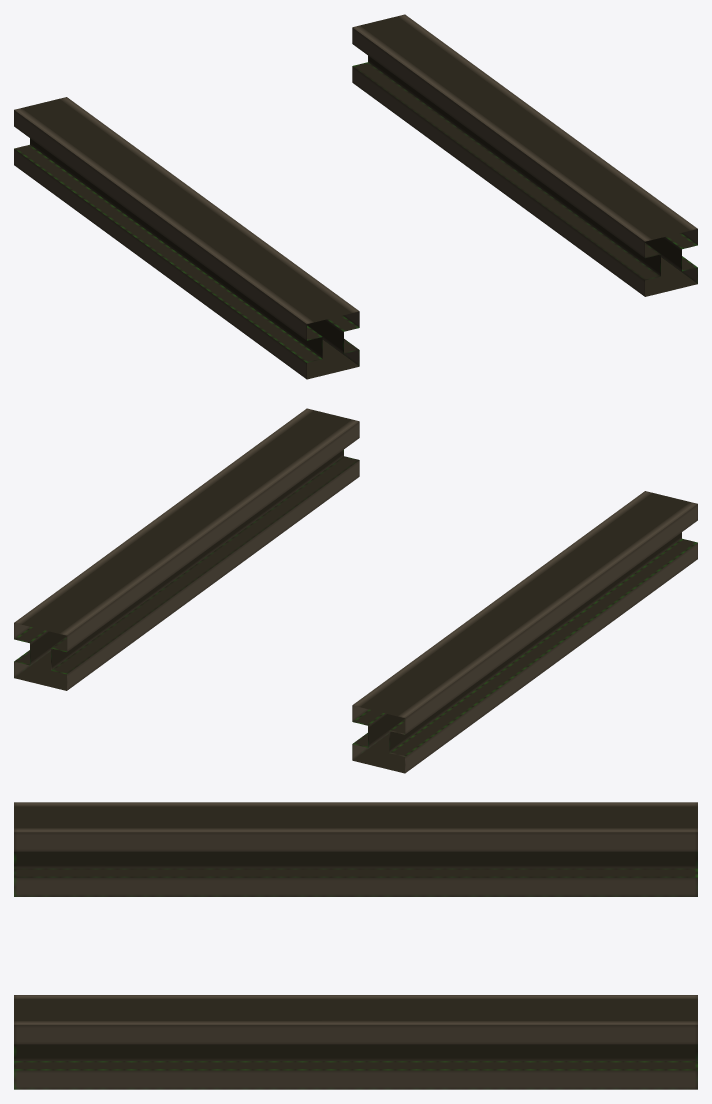
The model's file is RoadRect.fbx.
3 views of the same model, one above another, from view 1: azimuth 30°, elevation 25°; view 2: azimuth 150°, elevation 25°; view 3: azimuth 270°, elevation 25° (orthographic). The views are drawn at different scales.
Parts seen in each view (by area): view 1: Road; view 2: Road; view 3: Road.
Part boxes in pixels (bbox=[...]): Road: bbox=[14, 14, 697, 379]; Road: bbox=[14, 408, 697, 773]; Road: bbox=[14, 802, 697, 1089].
Bounding box in the file's own units: 231 × 31.25 × 300.
